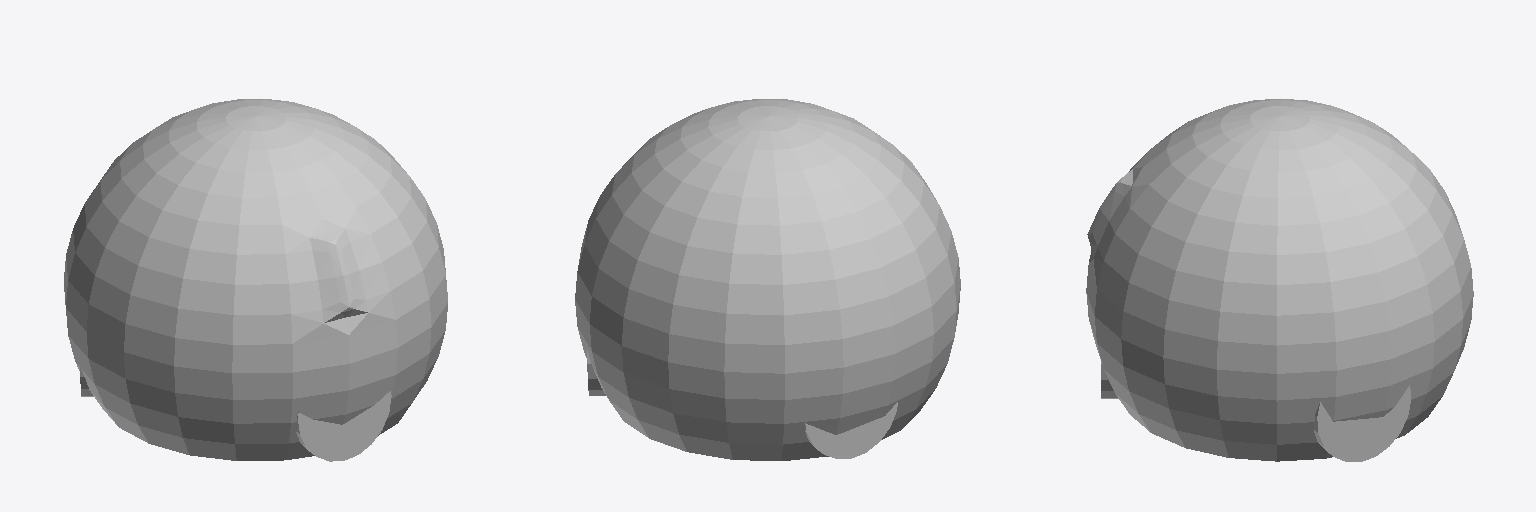
File: HQDroplet.obj
The picture shows the model from 3 angles: view 1: azimuth 30°, elevation 25°; view 2: azimuth 150°, elevation 25°; view 3: azimuth 270°, elevation 25°; orthographic projection.
Bounding box in the file's own units: 1.99 × 1.58 × 1.99.